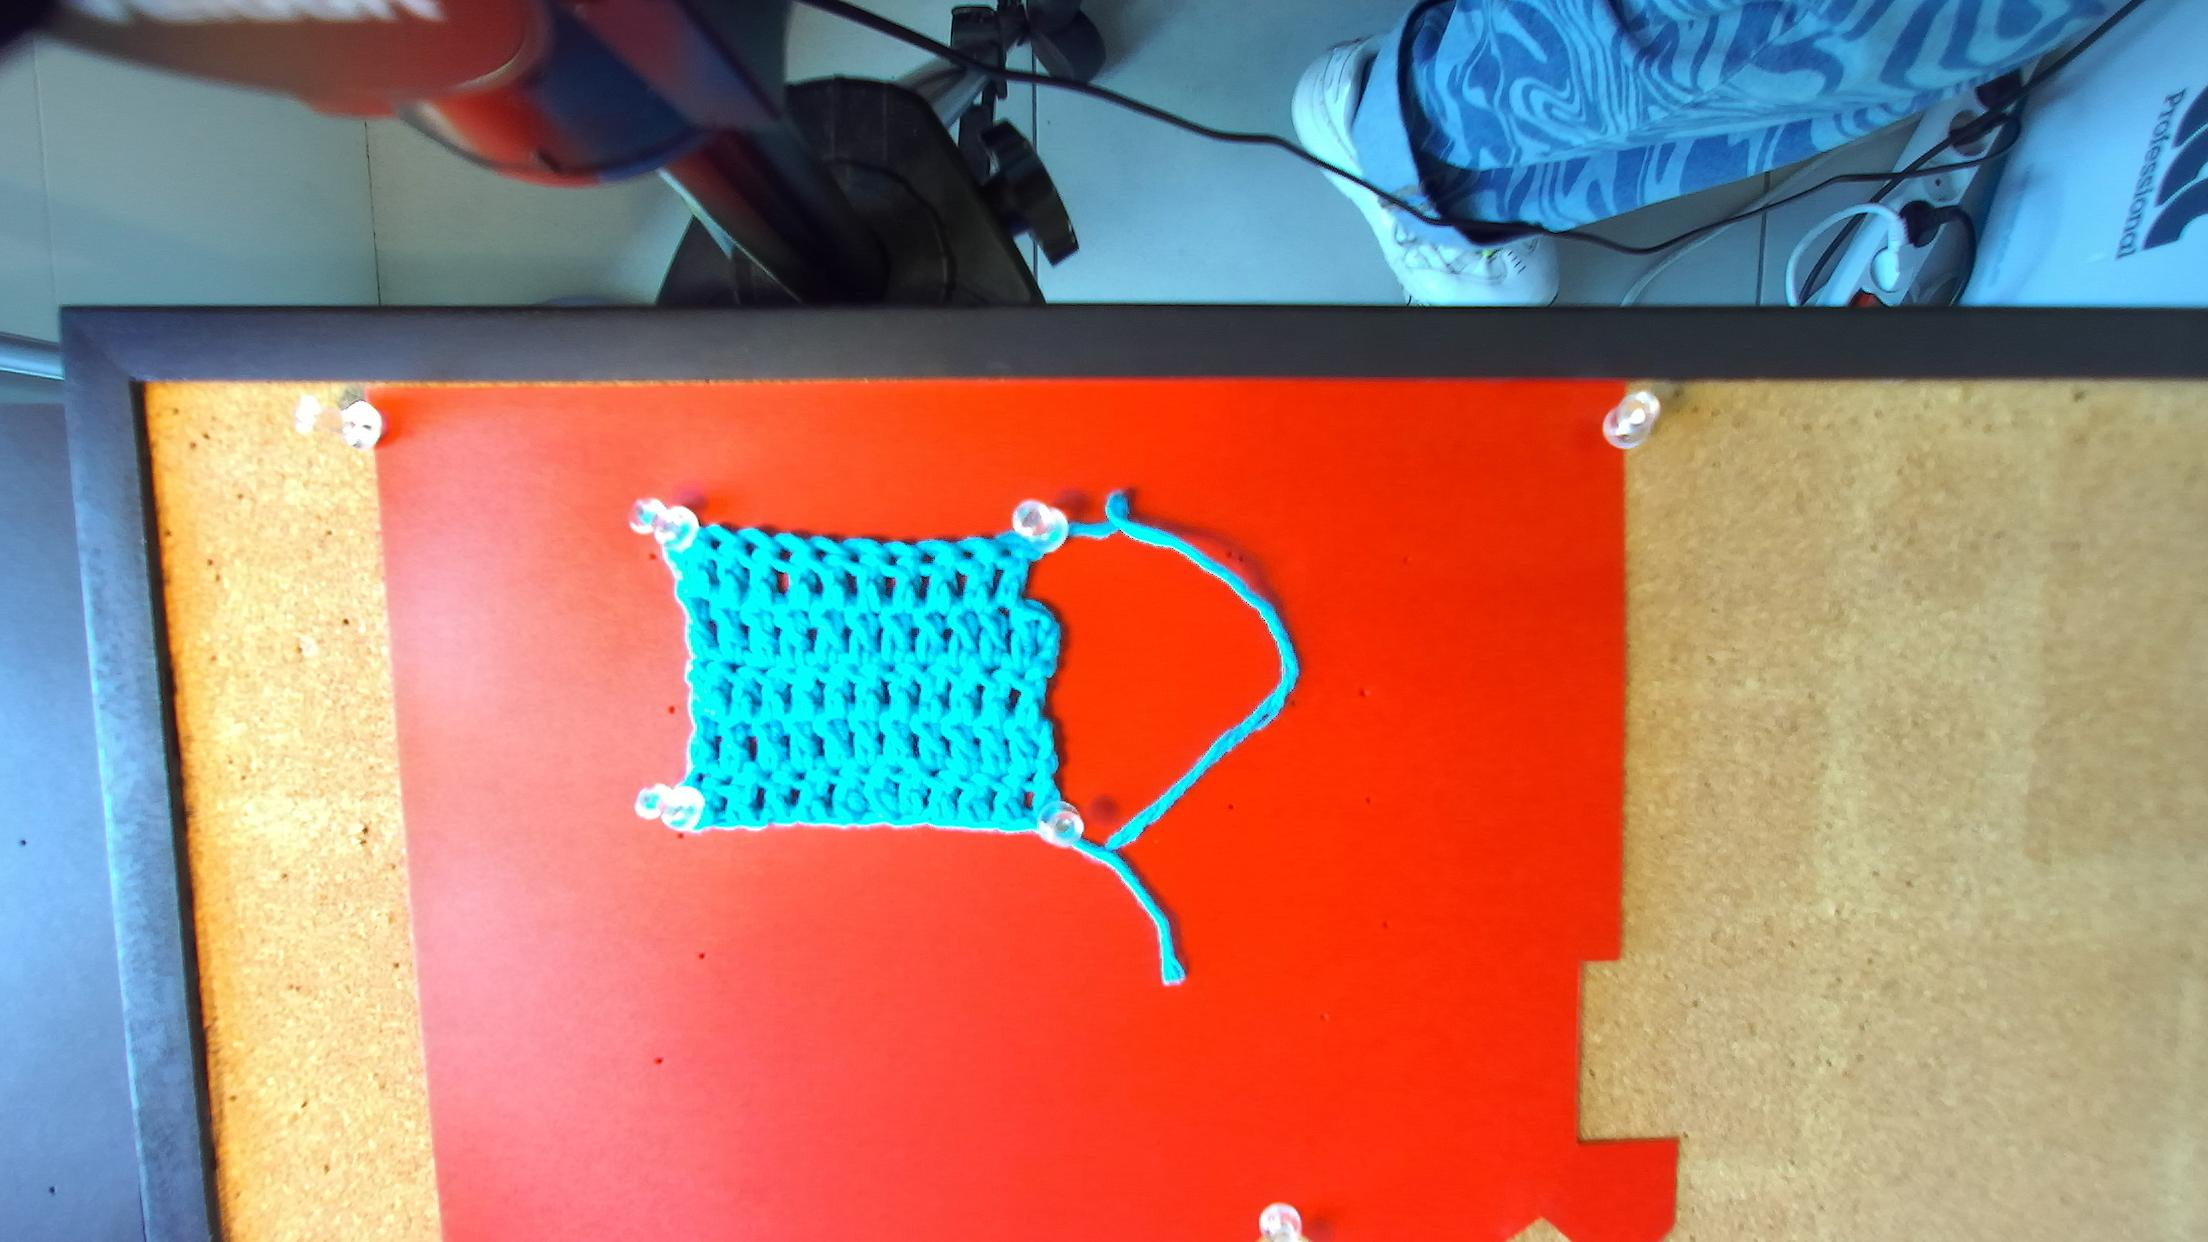hole: (706, 538, 723, 553), (812, 549, 829, 564), (744, 542, 759, 557), (919, 552, 937, 564), (777, 548, 793, 561), (847, 550, 861, 564), (887, 553, 899, 566), (961, 550, 975, 560), (999, 548, 1011, 557)
swatch: (633, 506, 1083, 838)
